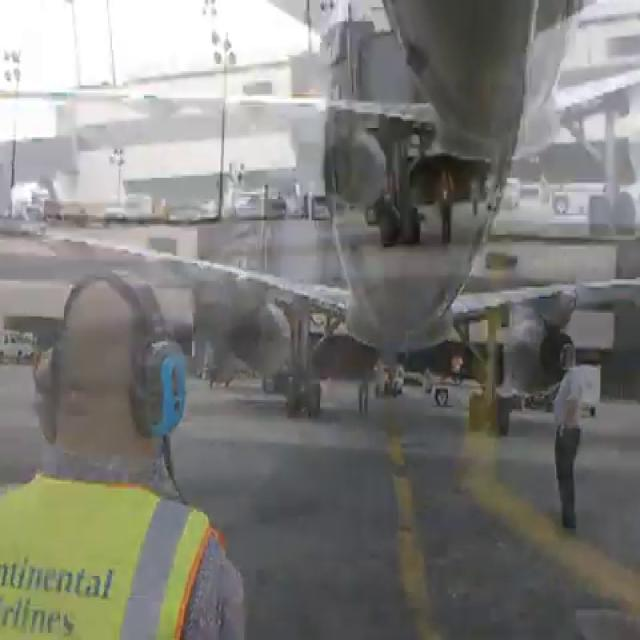earmuff: (131, 334, 192, 446), (33, 336, 72, 442)
